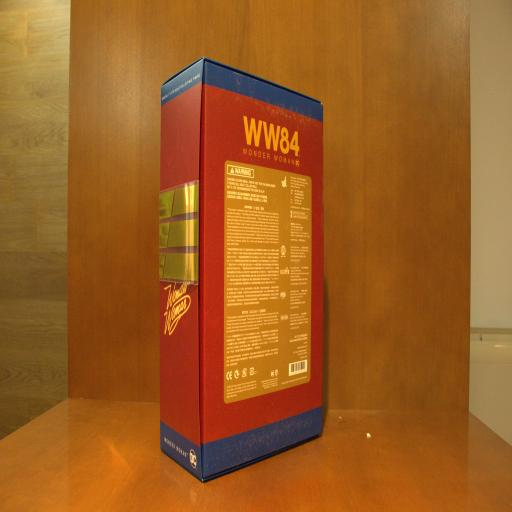WonderWoman: (158, 55, 328, 483)
